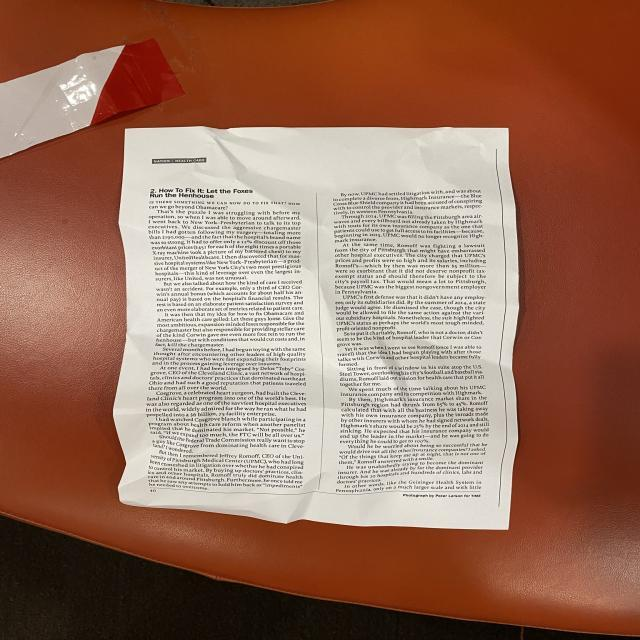document: (113, 128, 518, 529)
